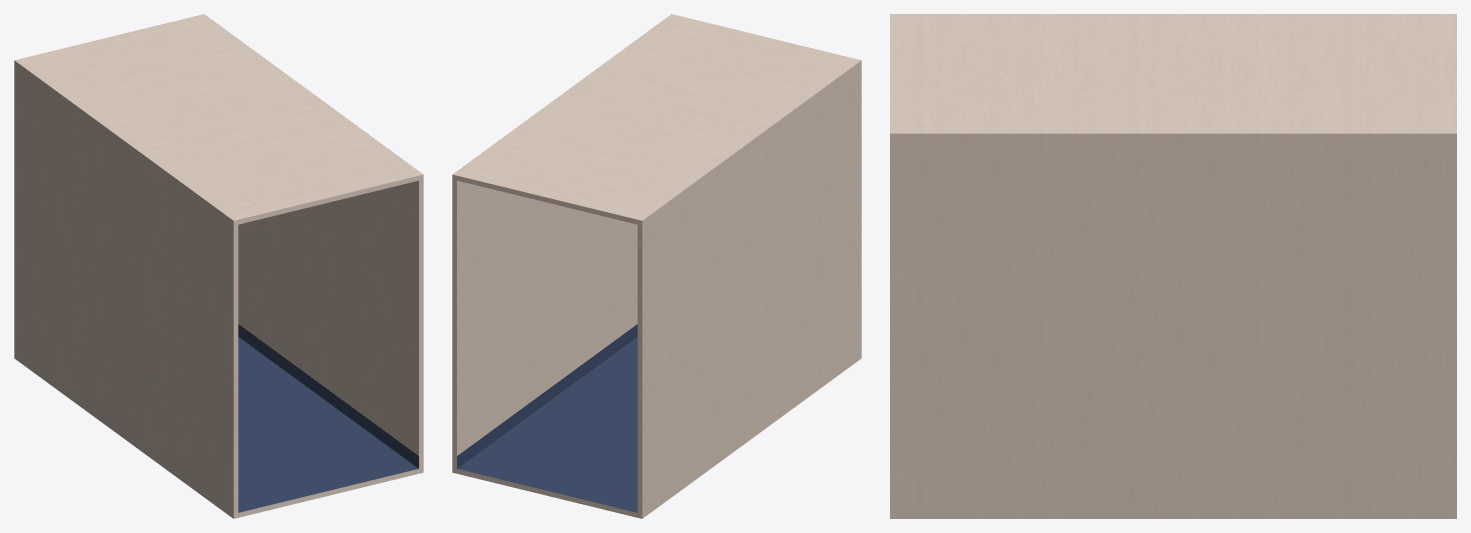
The model's file is corridor_.fbx.
3 renders of one model, left to right at view 1: azimuth 30°, elevation 25°; view 2: azimuth 150°, elevation 25°; view 3: azimuth 270°, elevation 25°, orthographic. The views are drawn at different scales.
Visible parts, largest first — view 1: corridor_; view 2: corridor_; view 3: corridor_.
Boxes of the visible parts, x1=… form: corridor_: x1=14, y1=14, x2=423, y2=518; corridor_: x1=452, y1=14, x2=861, y2=518; corridor_: x1=890, y1=14, x2=1456, y2=518.
Size of the model in its own units: 200 by 300 by 400.
